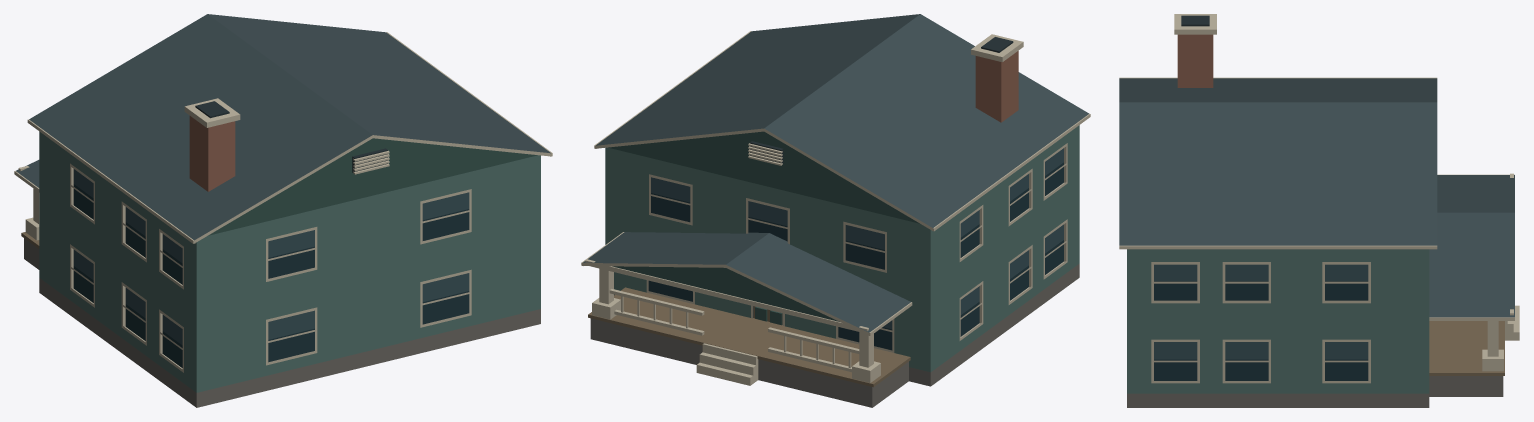
The model's file is house-3k-2floor.glb.
3 renders of one model, left to right at view 1: azimuth 30°, elevation 25°; view 2: azimuth 150°, elevation 25°; view 3: azimuth 270°, elevation 25°, orthographic. The views are drawn at different scales.
Visible parts, largest first — view 1: house-3k-2floor; view 2: house-3k-2floor; view 3: house-3k-2floor.
Part boxes in pixels (x1=…): house-3k-2floor: x1=14, y1=14, x2=552, y2=407; house-3k-2floor: x1=581, y1=14, x2=1090, y2=407; house-3k-2floor: x1=1119, y1=14, x2=1519, y2=407.
Bounding box in the file's own units: 13.99 × 9.69 × 14.05.
